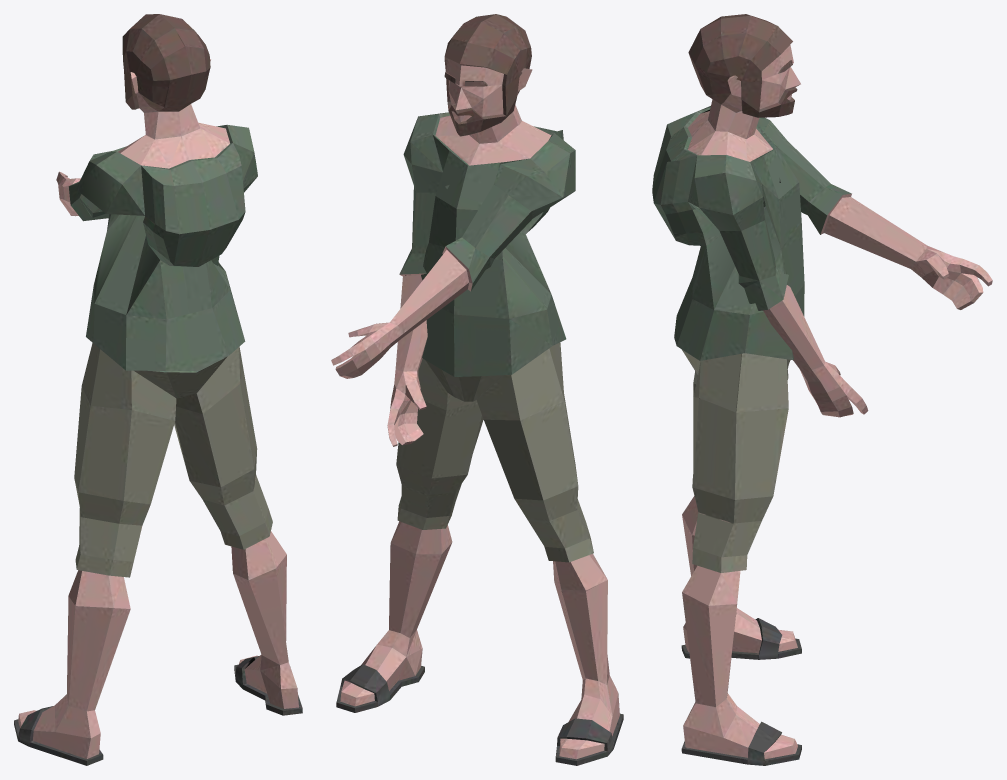
File: inf_civ_3_armed.glb
The picture shows the model from 3 angles, left to right: view 1: azimuth 30°, elevation 25°; view 2: azimuth 150°, elevation 25°; view 3: azimuth 270°, elevation 25°; orthographic projection. The views are drawn at different scales.
Visible parts, largest first — view 1: inf_civ_3_armed; view 2: inf_civ_3_armed; view 3: inf_civ_3_armed.
Boxes of the visible parts, left/top/right/bottom form: inf_civ_3_armed: left=14, top=14, right=302, bottom=765; inf_civ_3_armed: left=331, top=14, right=623, bottom=765; inf_civ_3_armed: left=652, top=14, right=992, bottom=765.
Bounding box in the file's own units: 0.691 × 1.72 × 0.774.
1 material, 1 textured.
